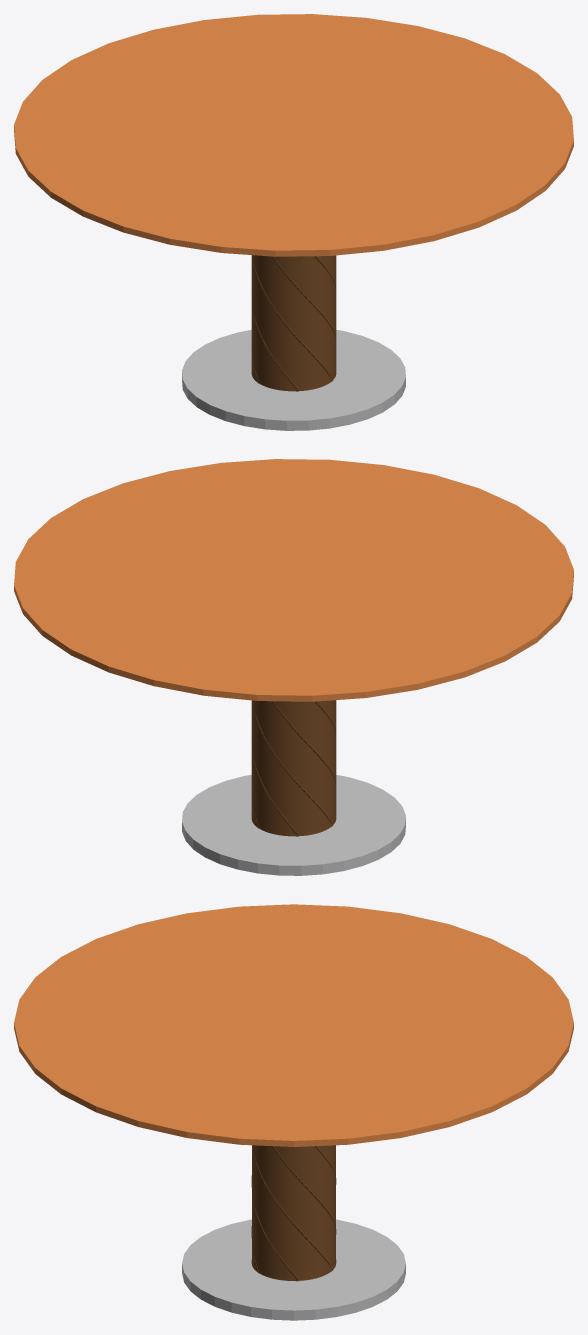
File: Rolling_B.gltf
3 views of the same model, one above another, from view 1: azimuth 30°, elevation 25°; view 2: azimuth 150°, elevation 25°; view 3: azimuth 270°, elevation 25° (orthographic).
Visible parts, largest first — view 1: Cylinder.002, Cylinder, Cylinder.008, Cylinder.006, Cylinder.007, Cylinder.005; view 2: Cylinder.002, Cylinder, Cylinder.005, Cylinder.004, Cylinder.006, Cylinder.003; view 3: Cylinder.002, Cylinder, Cylinder.003, Cylinder.007, Cylinder.004, Cylinder.008.
Boxes of the visible parts, x1,y1,x2,y2 form: Cylinder.002: (14,14,573,256); Cylinder: (182,330,405,430); Cylinder.008: (252,255,336,379); Cylinder.006: (251,255,332,391); Cylinder.007: (273,256,336,338); Cylinder.005: (251,298,298,391); Cylinder.002: (14,459,573,701); Cylinder: (182,775,405,875); Cylinder.005: (253,700,336,824); Cylinder.004: (251,700,332,836); Cylinder.006: (273,701,336,783); Cylinder.003: (251,743,298,836); Cylinder.002: (14,904,573,1146); Cylinder: (182,1219,405,1320); Cylinder.003: (252,1145,336,1269); Cylinder.007: (251,1145,332,1280); Cylinder.004: (273,1146,336,1229); Cylinder.008: (251,1187,298,1281).
Bounding box in the file's own units: 1.51 × 0.7456 × 1.51.
